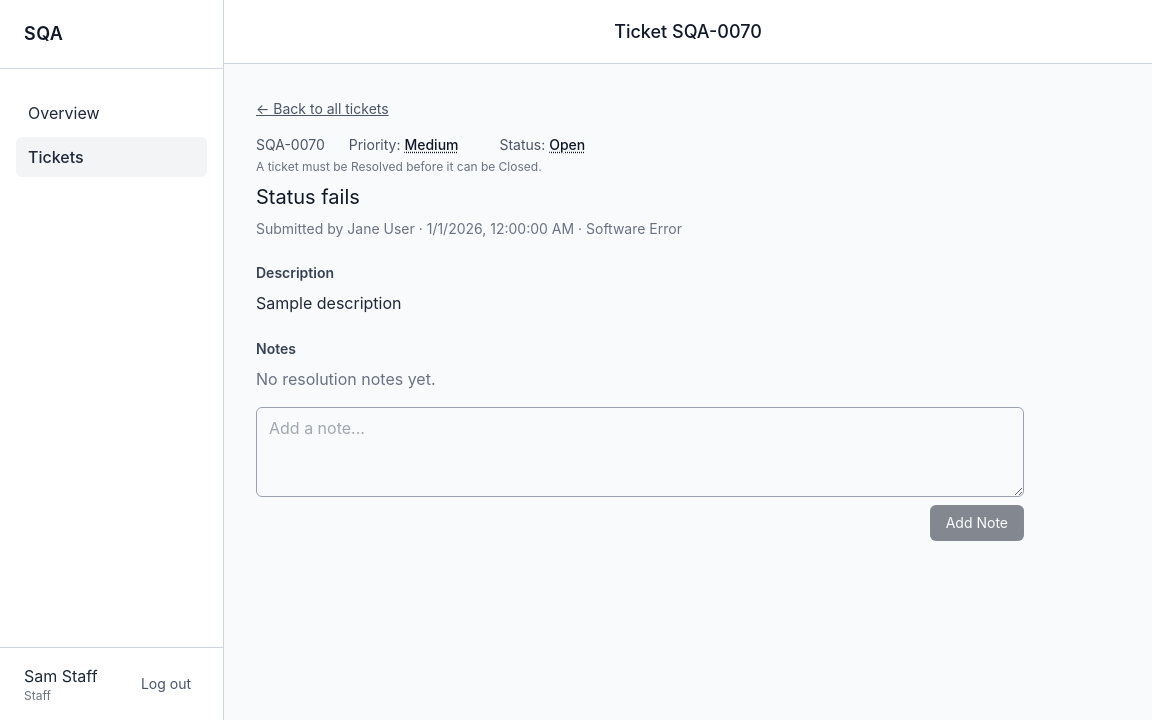
Test: TicketDetail page › failed updates (error handling) › TC-ERR-03: a failed status update shows an error and keeps the saved status
Check: the heading "Status fails" is shown, box [256, 185, 360, 209]
Select "In Progress" in the dropdown next to "Status:" at [595, 145], box [549, 135, 641, 155]
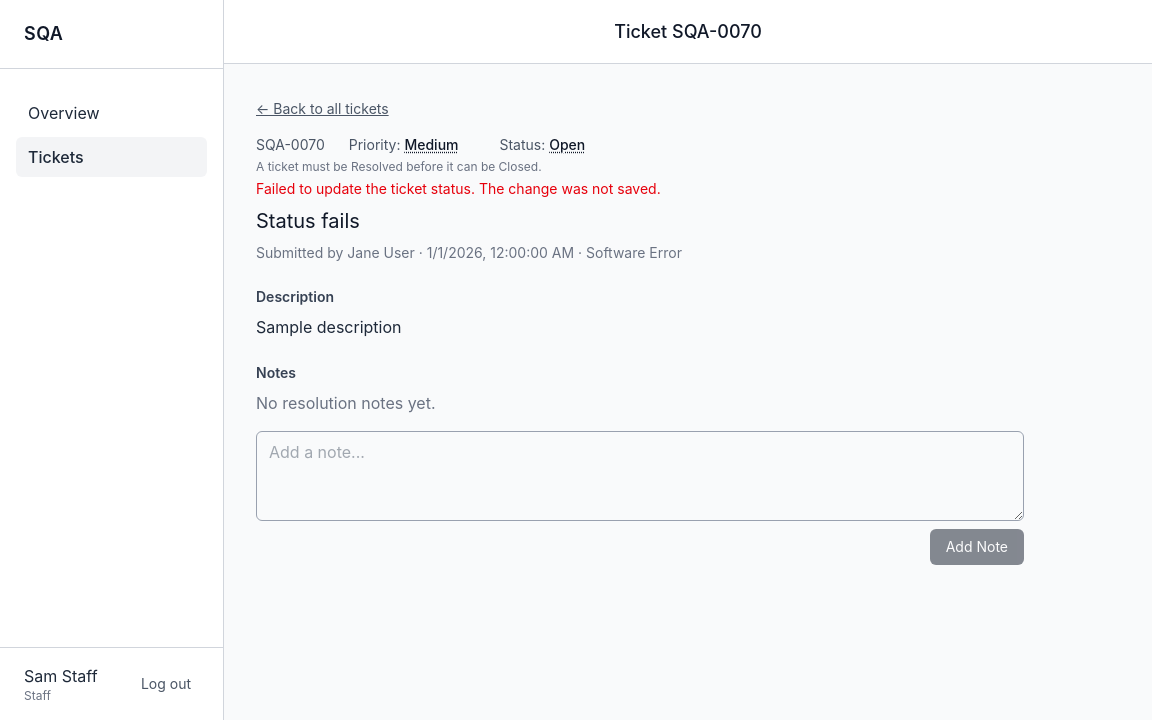
Check: the message shows "Failed to update the ticket status", box [256, 180, 661, 197]
